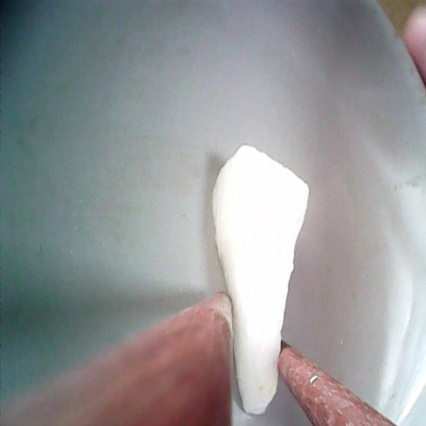white_chinese-yam: (207, 143, 315, 421)
